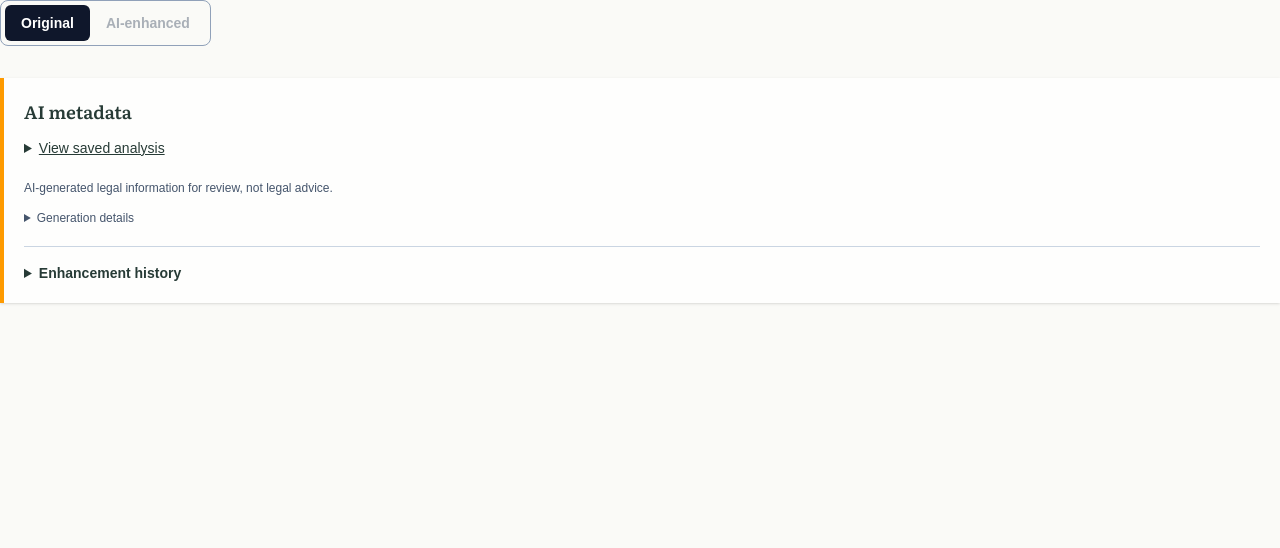
Test: BillEnhancementPanel › renders server-owned citations as cited sources, never verified evidence
Expected: the text "The bill requires a report." is not shown
What coordinates should you click on to do the following:
click the heading "View saved analysis"
I would click on:
 (102, 148)
Its box is [39,140,165,156].
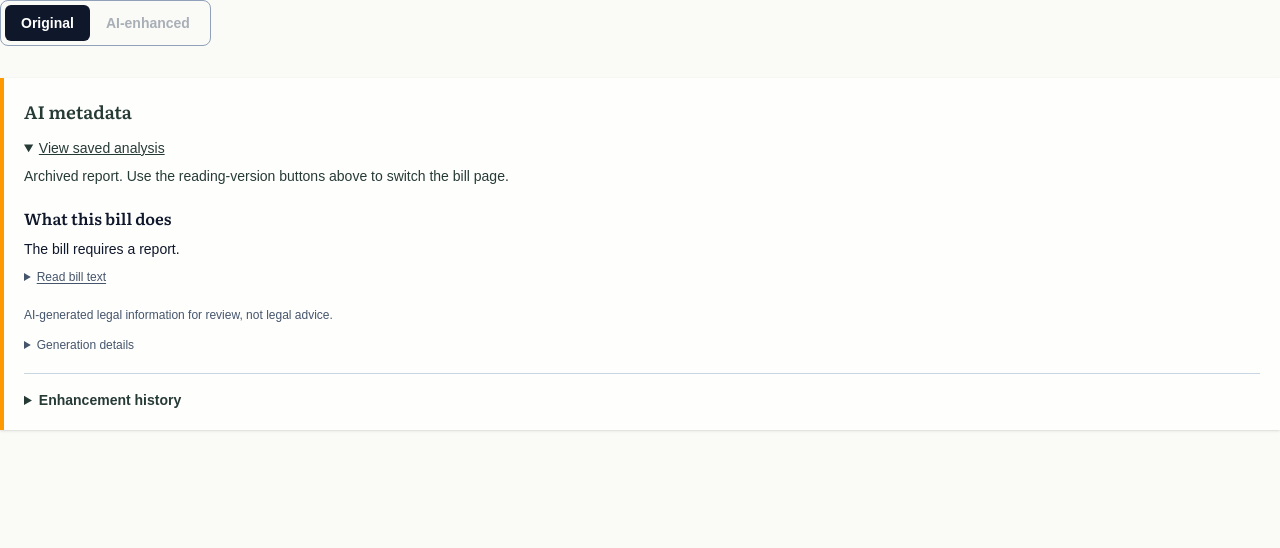
Expected: the text "The Secretary shall publish a report." is not shown
Expected: the text "The bill requires a report." is shown, [24,241,180,257]
What coordinates should you click on to do the following:
click the heading "Read bill text"
I would click on:
 (71, 277)
Its box is [37,270,106,284].
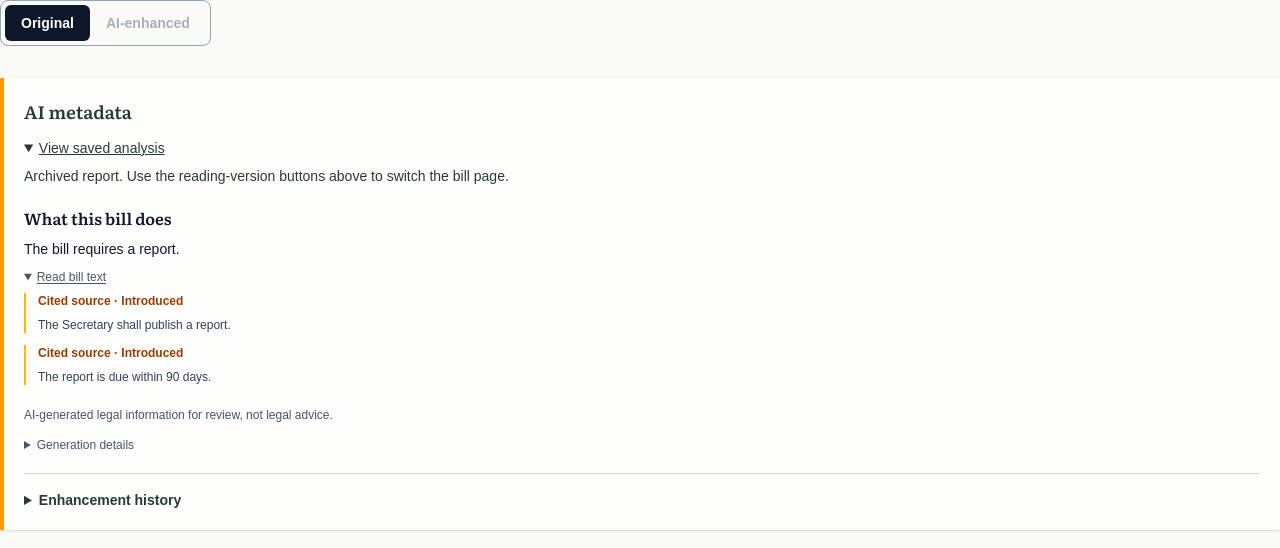
Expected: the text "Cited source" is shown 2 times, [38,294,111,308]; [38,346,111,360]
Expected: the text "The report is due within 90 days." is shown, [38,370,211,384]
Expected: the text "The Secretary shall publish a report." is shown, [38,318,231,332]
